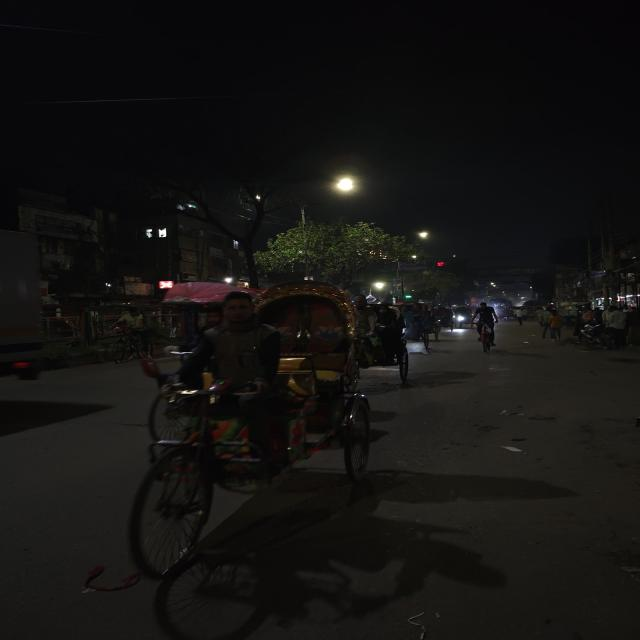bicycle: (469, 300, 503, 354)
pedestrian: (598, 304, 630, 348), (542, 306, 566, 342), (512, 305, 529, 327)
rickshaw: (110, 286, 382, 578), (368, 297, 412, 384)
